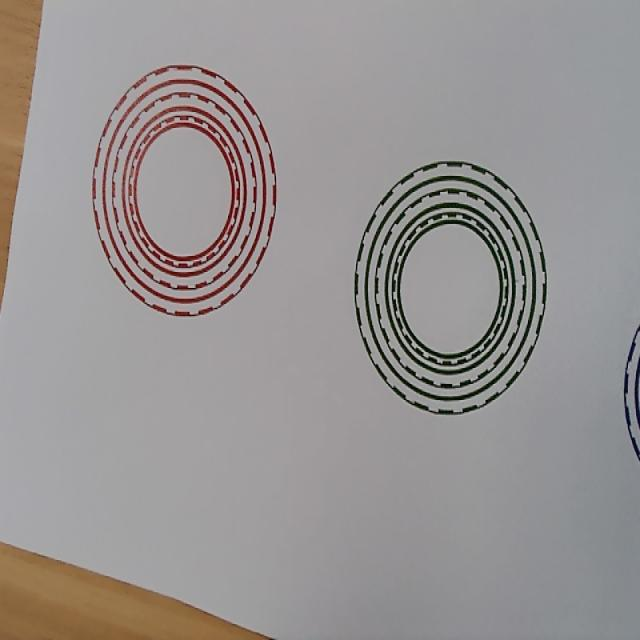g: (354, 159, 548, 416)
red-green-blue: (92, 63, 277, 318)
